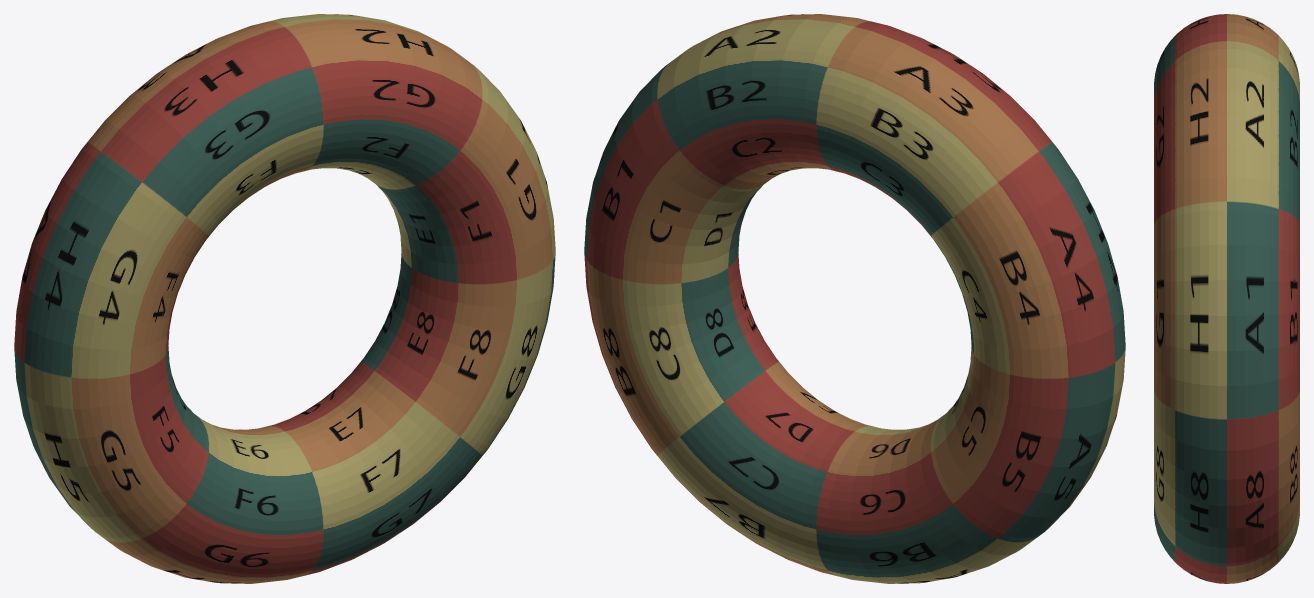
Rendered from texture_torus_R25_r27.glb.
3 renders of one model, left to right at view 1: azimuth 30°, elevation 25°; view 2: azimuth 150°, elevation 25°; view 3: azimuth 270°, elevation 25°, orthographic. The views are drawn at different scales.
Visible parts, largest first — view 1: world; view 2: world; view 3: world.
Part boxes in pixels (x1=…): world: x1=14, y1=14, x2=555, y2=583; world: x1=584, y1=14, x2=1125, y2=583; world: x1=1154, y1=14, x2=1299, y2=583.
Size of the model in its own units: 35.87 by 35.8 by 9.18.
1 material, 1 textured.
